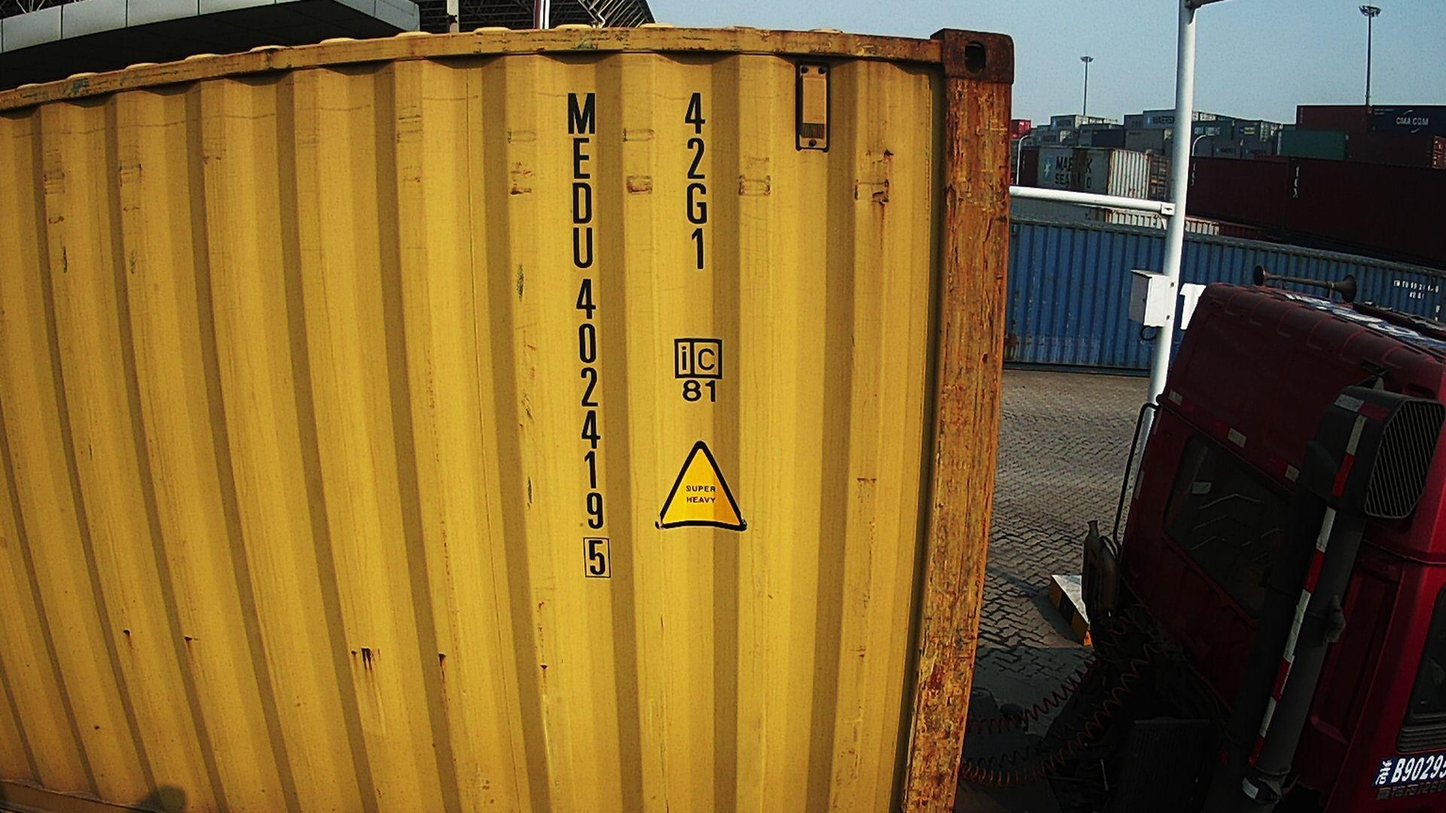container-numbers: (563, 86, 614, 582), (676, 88, 718, 277)
